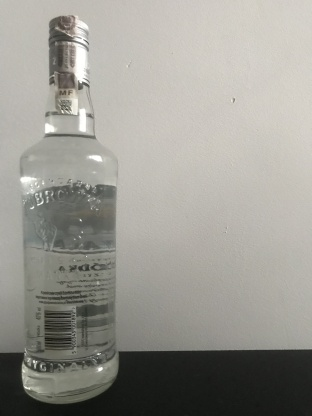nakretka: (46, 13, 92, 88)
